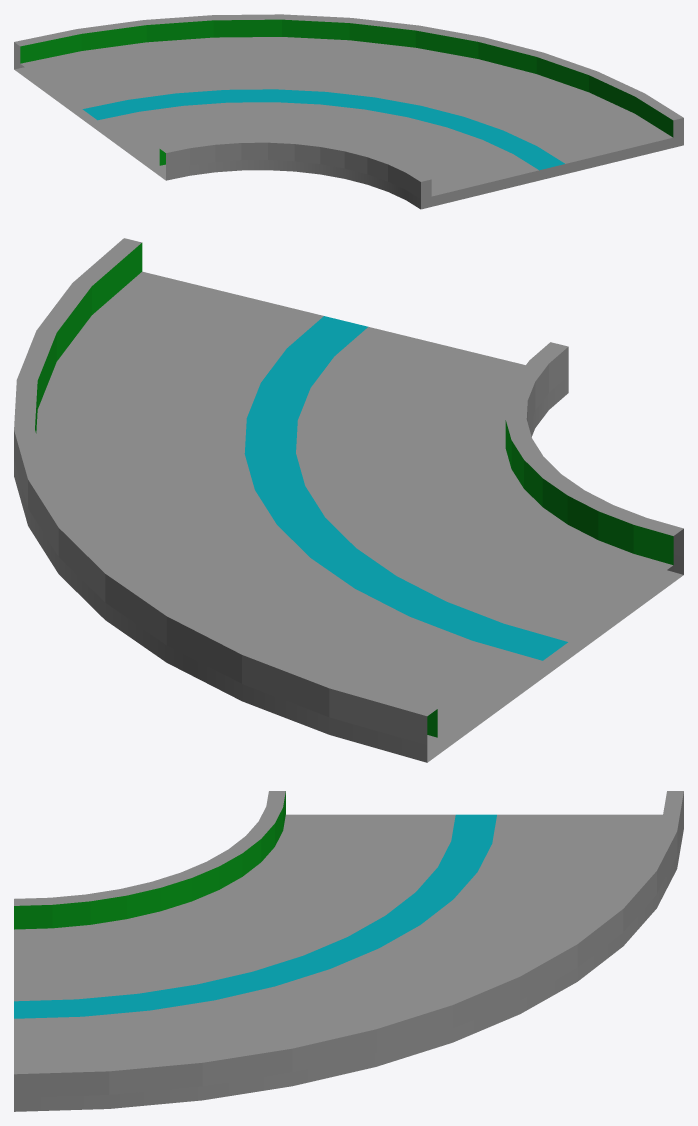
Rendered from mesh_road_curve_90.FBX.
3 views of the same model, one above another, from view 1: azimuth 30°, elevation 25°; view 2: azimuth 150°, elevation 25°; view 3: azimuth 270°, elevation 25° (orthographic). The views are drawn at different scales.
Parts seen in each view (by area): view 1: Box001; view 2: Box001; view 3: Box001.
Part boxes in pixels (<box>): Box001: <box>14,14,683,209</box>; Box001: <box>14,238,683,762</box>; Box001: <box>14,791,683,1111</box>.
Bounding box in the file's own units: 64.56 × 4 × 64.56.
